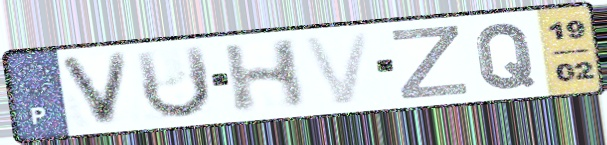H: (219, 35, 308, 117)
Q: (472, 20, 539, 92)
U: (131, 42, 215, 122)
V: (54, 49, 134, 129), (299, 29, 375, 108)
Z: (387, 23, 473, 102)
